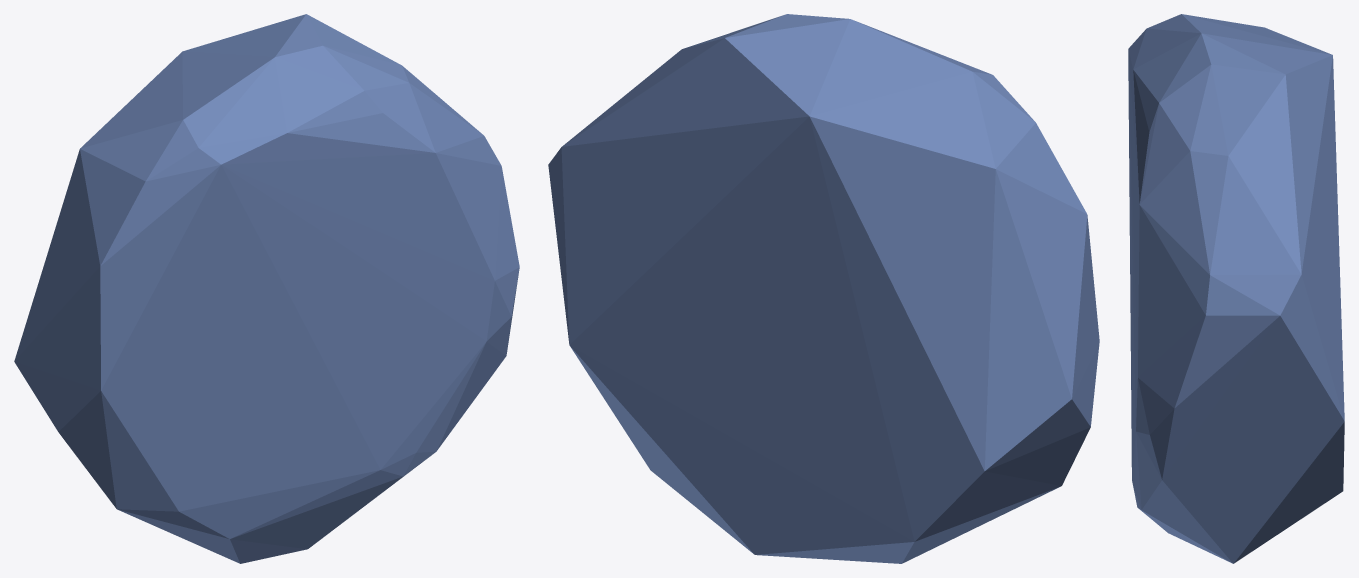
Rendered from food_prepared_donut_f01.glb.
3 views of the same model, side by side, from view 1: azimuth 30°, elevation 25°; view 2: azimuth 150°, elevation 25°; view 3: azimuth 270°, elevation 25° (orthographic). The views are drawn at different scales.
Parts seen in each view (by area): view 1: geometry_0; view 2: geometry_0; view 3: geometry_0.
Boxes of the visible parts, <box> form: geometry_0: <box>14,14,519,563</box>; geometry_0: <box>548,14,1099,563</box>; geometry_0: <box>1128,14,1344,563</box>.
Size of the model in its own units: 0.4613 by 0.4632 by 0.1819.
